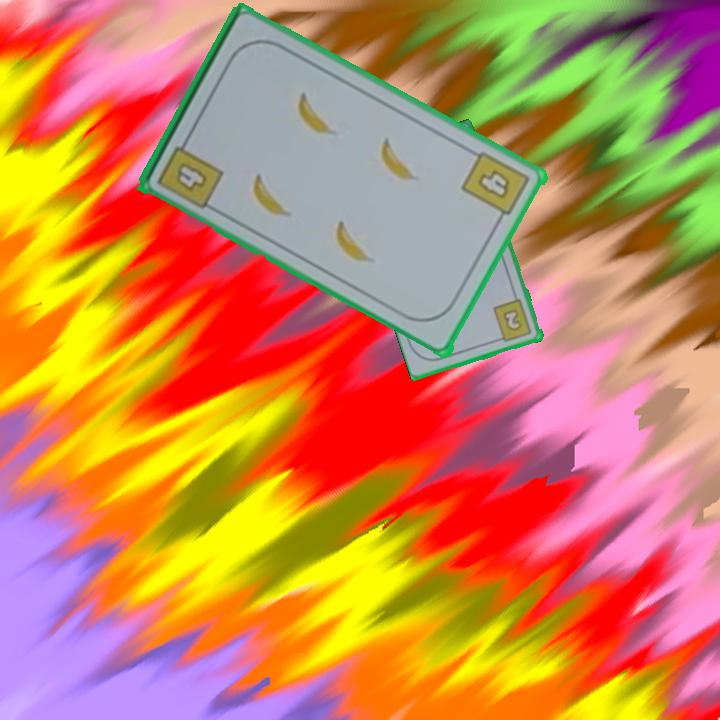2b: (490, 296, 535, 345)
4b: (459, 147, 534, 227), (153, 132, 227, 212)
